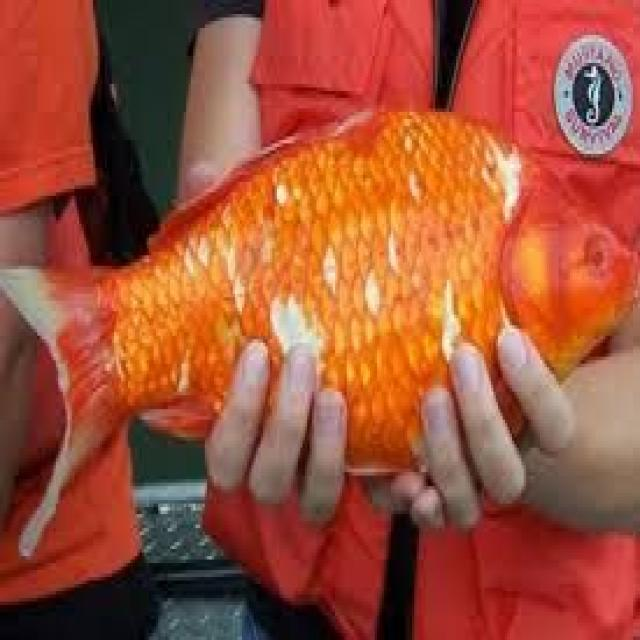Gold-Fish: (0, 70, 626, 556)
